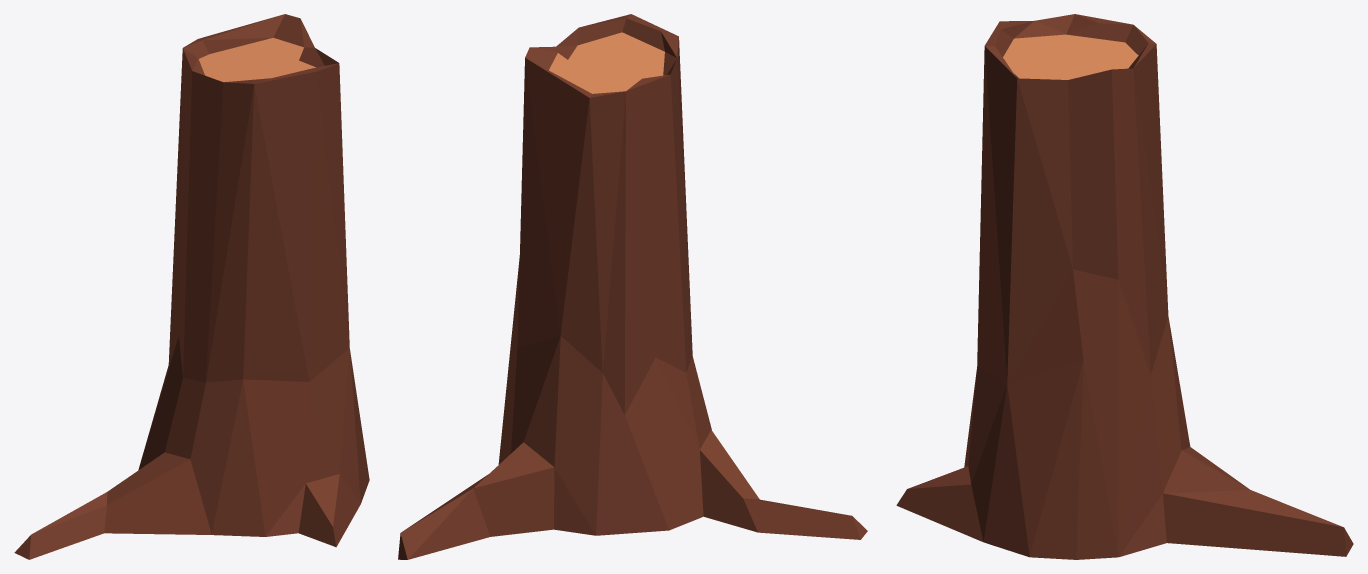
The model's file is pine_trunk_type_6_LOD1.fbx.
3 views of the same model, side by side, from view 1: azimuth 30°, elevation 25°; view 2: azimuth 150°, elevation 25°; view 3: azimuth 270°, elevation 25° (orthographic). The views are drawn at different scales.
Parts seen in each view (by area): view 1: pt_type_6.001; view 2: pt_type_6.001; view 3: pt_type_6.001.
Part boxes in pixels (x1=…): pt_type_6.001: x1=14, y1=14, x2=369, y2=559; pt_type_6.001: x1=398, y1=14, x2=867, y2=559; pt_type_6.001: x1=896, y1=14, x2=1353, y2=559.
Size of the model in its own units: 344 by 424 by 369.
